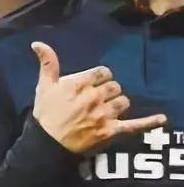clockwise: (26, 38, 170, 141)
